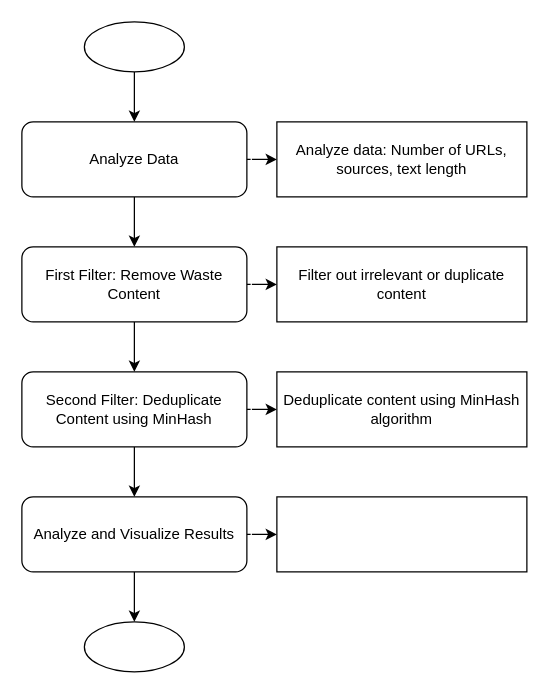
This 549x694 diagram has some shape labels left out. The shapes that lost their labels are listed below. From the top down, each one's centre as x and y in pixels, then its label:
At (133,46): "Start".
At (401,534): "Get graphs on token distribution and source diversity".
At (133,646): "End".
